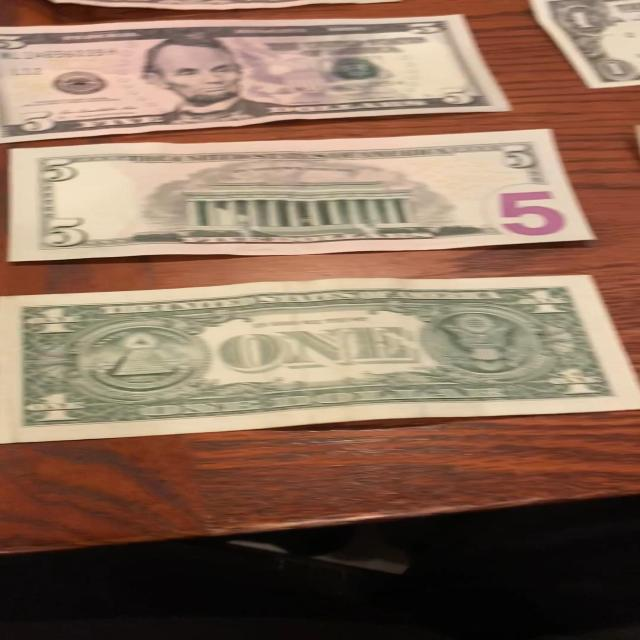5-Back: (0, 271, 640, 444), (0, 129, 602, 264)
5-Front: (0, 13, 513, 143)
